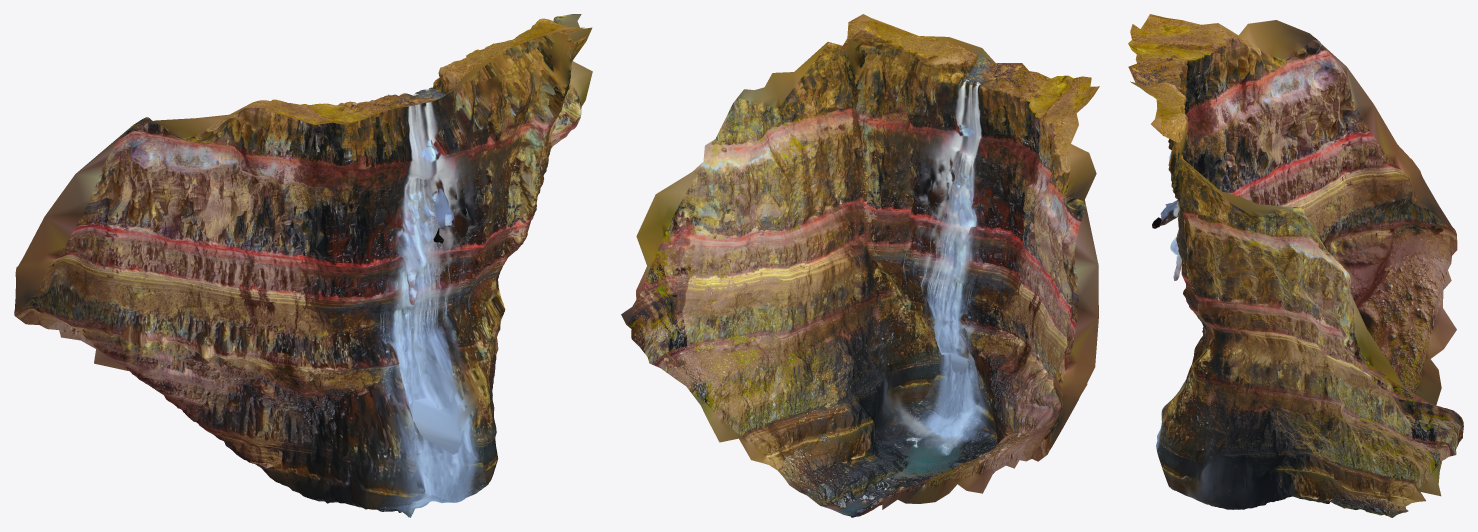
The model's file is waterfall.glb.
The picture shows the model from 3 angles, left to right: view 1: azimuth 30°, elevation 25°; view 2: azimuth 150°, elevation 25°; view 3: azimuth 270°, elevation 25°; orthographic projection. The views are drawn at different scales.
Visible parts, largest first — view 1: Model; view 2: Model; view 3: Model.
Part boxes in pixels (box(x1,y1,x2,y2)): Model: box(14, 14, 592, 517); Model: box(621, 14, 1099, 517); Model: box(1128, 14, 1463, 517).
Bounding box in the file's own units: 25.02 × 20.73 × 14.43.
3 materials, 3 textured.
